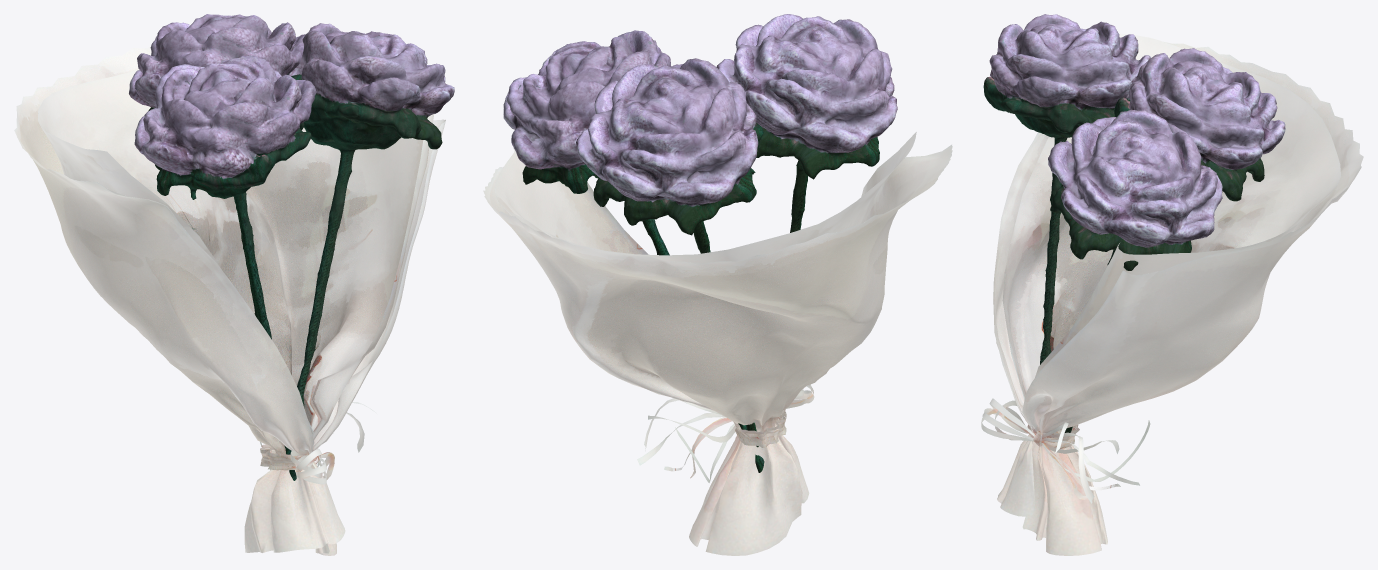
Rendered from rose_bouquet.glb.
3 views of the same model, side by side, from view 1: azimuth 30°, elevation 25°; view 2: azimuth 150°, elevation 25°; view 3: azimuth 270°, elevation 25° (orthographic). The views are drawn at different scales.
Visible parts, largest first — view 1: inner, outer, Rose_Petal, Rose_Petal.002, Rose_Stem.002, Rose_Petal.001, Rose_Stem, ribbon, parcel_knot; view 2: outer, Rose_Petal.001, Rose_Petal, Rose_Petal.002, inner, Rose_Stem.001, Rose_Stem, ribbon, Rose_Stem.002, parcel_knot; view 3: outer, inner, Rose_Petal.002, Rose_Petal.001, Rose_Petal, Rose_Stem, ribbon, Rose_Stem.002, Rose_Stem.001.
Boxes of the visible parts, x1,y1,x2,y2 form: inner: (38, 69, 434, 440); outer: (14, 46, 445, 555); Rose_Petal: (134, 55, 316, 179); Rose_Petal.002: (289, 23, 454, 116); Rose_Stem.002: (297, 35, 442, 408); Rose_Petal.001: (129, 14, 305, 108); Rose_Stem: (155, 76, 311, 480); ribbon: (260, 402, 376, 484); parcel_knot: (260, 444, 308, 470); outer: (483, 144, 952, 555); Rose_Petal.001: (576, 58, 758, 207); Rose_Petal: (716, 14, 897, 153); Rose_Petal.002: (503, 30, 671, 170); inner: (494, 132, 916, 263); Rose_Stem.001: (593, 121, 763, 447); Rose_Stem: (753, 43, 879, 232); ribbon: (637, 384, 814, 482); Rose_Stem.002: (518, 80, 764, 472); parcel_knot: (733, 409, 786, 447); outer: (993, 42, 1363, 555); inner: (1002, 33, 1340, 399); Rose_Petal.002: (1048, 110, 1222, 247); Rose_Petal.001: (1125, 48, 1285, 169); Rose_Petal: (989, 14, 1150, 110); Rose_Stem: (983, 32, 1126, 364); ribbon: (981, 398, 1150, 503); Rose_Stem.002: (1050, 185, 1196, 432); Rose_Stem.001: (1069, 79, 1266, 432).
Bounding box in the file's own units: 1.8 × 2.15 × 1.55.
9 materials, 9 textured.
